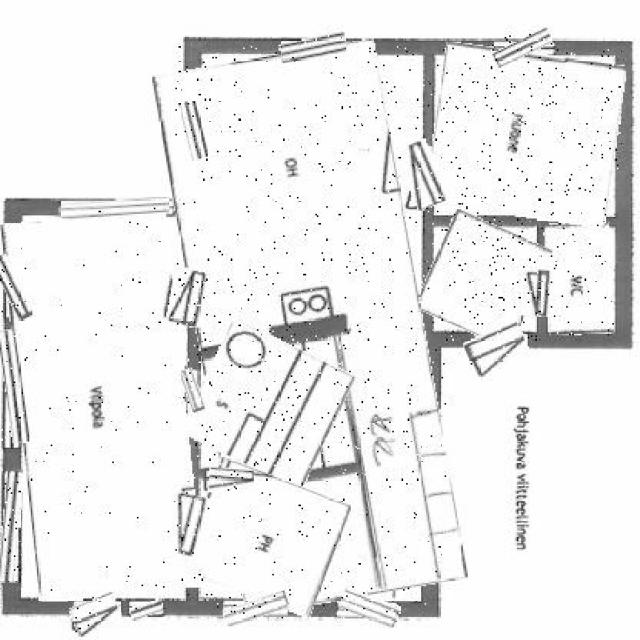door: (466, 324, 531, 376), (400, 142, 445, 209), (168, 494, 214, 557), (168, 269, 208, 328), (72, 597, 121, 634), (520, 269, 557, 317), (209, 469, 254, 494)
window: (0, 329, 26, 443), (0, 469, 22, 583), (60, 198, 169, 217), (338, 592, 400, 623), (0, 254, 26, 320), (280, 34, 346, 60), (225, 596, 289, 622), (492, 34, 552, 61), (182, 102, 204, 160), (183, 370, 202, 412), (131, 601, 163, 617)
zone: (176, 46, 447, 609), (11, 212, 194, 598), (429, 48, 622, 222), (189, 329, 346, 480), (189, 468, 343, 609), (423, 217, 545, 341), (546, 223, 614, 335)
